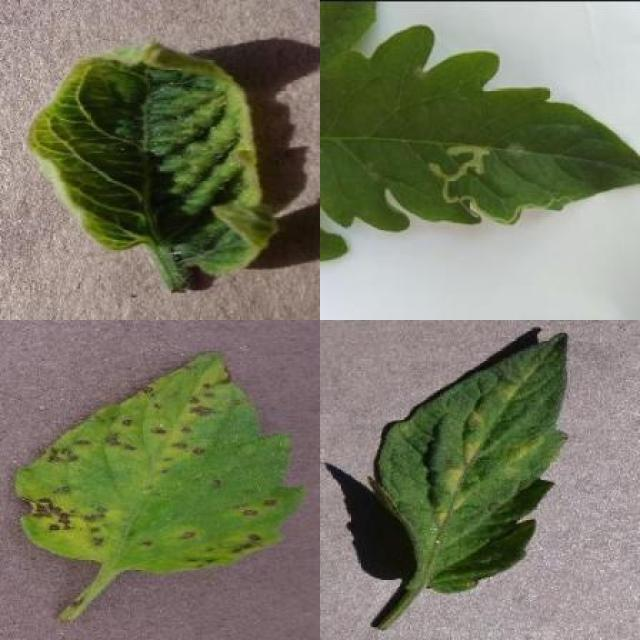Leaf Miner: (320, 25, 640, 232)
Leaf Mold: (370, 330, 570, 594)
Septoria: (13, 348, 306, 575)
Yellow Leaf Curl Virus: (25, 38, 278, 278)
